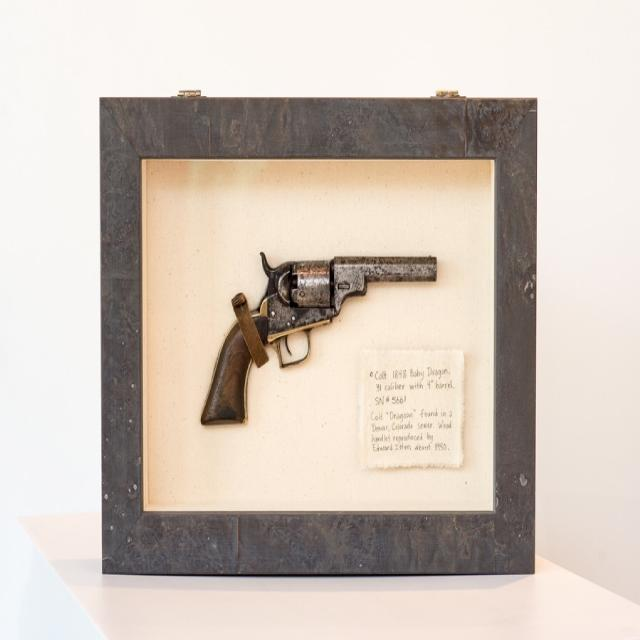HandGun: (201, 253, 437, 416)
